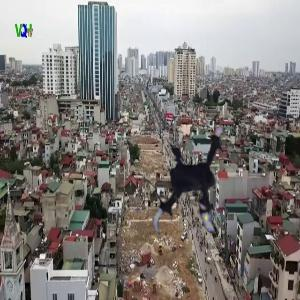drone: (135, 124, 265, 254)
